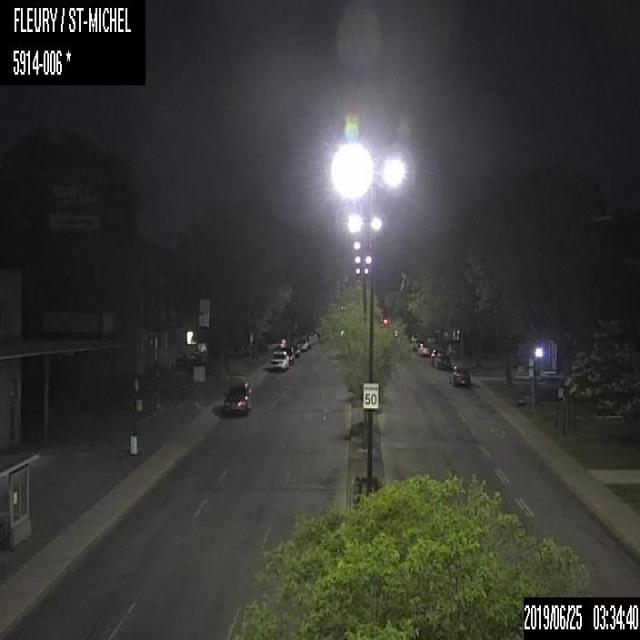vehicle: (221, 377, 254, 415), (268, 349, 289, 372), (448, 364, 470, 385), (433, 351, 450, 369), (282, 345, 294, 364), (429, 348, 442, 364), (417, 342, 429, 356), (296, 338, 308, 351), (292, 343, 300, 358), (413, 338, 422, 350)
